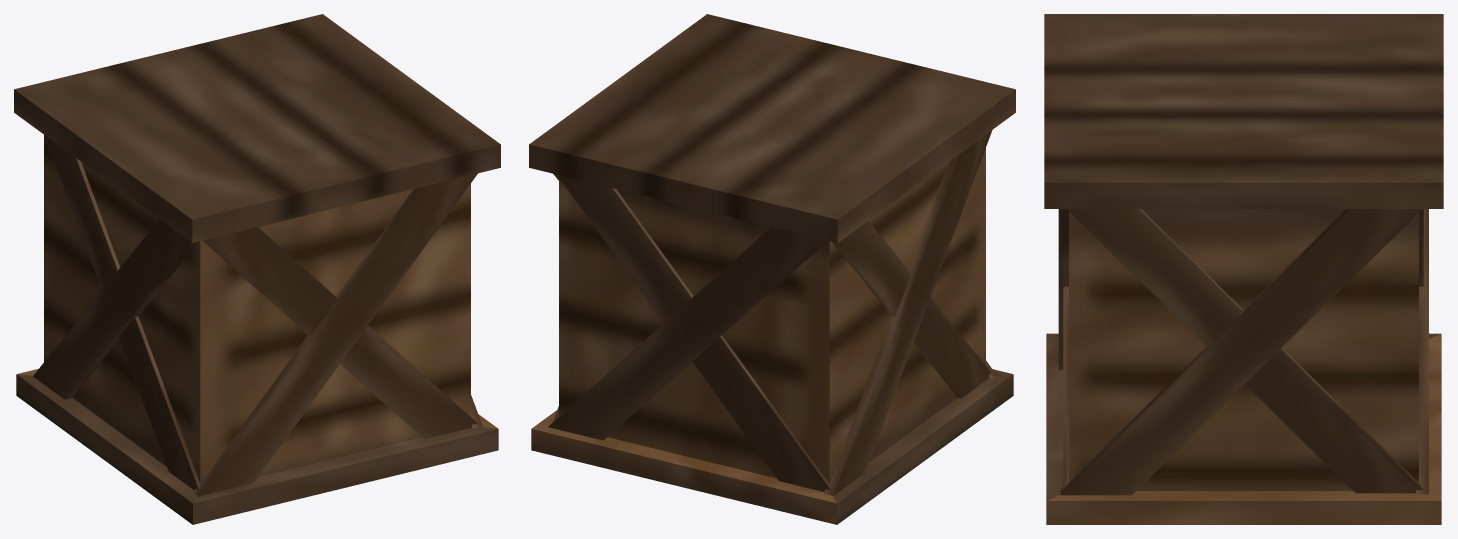
File: Caixa3.fbx
3 renders of one model, left to right at view 1: azimuth 30°, elevation 25°; view 2: azimuth 150°, elevation 25°; view 3: azimuth 270°, elevation 25°, orthographic. The views are drawn at different scales.
Parts seen in each view (by area): view 1: LOD_0; view 2: LOD_0; view 3: LOD_0.
Boxes of the visible parts, bbox=[...] form: LOD_0: bbox=[14, 14, 500, 524]; LOD_0: bbox=[529, 14, 1015, 524]; LOD_0: bbox=[1044, 14, 1443, 524].
Size of what is drawn, in the model's own units: 209 by 198 by 209.
